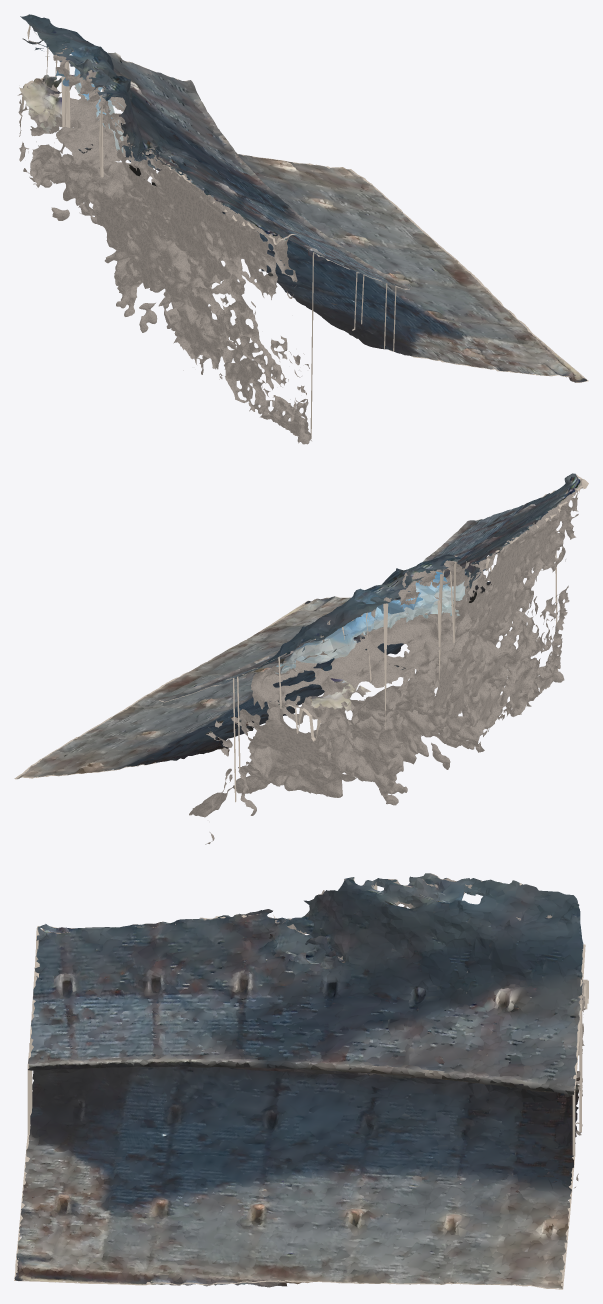
The model's file is dkr-west-stand-far.glb.
3 views of the same model, one above another, from view 1: azimuth 30°, elevation 25°; view 2: azimuth 150°, elevation 25°; view 3: azimuth 270°, elevation 25° (orthographic). The views are drawn at different scales.
Visible parts, largest first — view 1: DKR west stand scan, DKR west stand authored infill; view 2: DKR west stand scan, DKR west stand authored infill; view 3: DKR west stand scan, DKR west stand authored infill.
Boxes of the visible parts, x1,y1,x2,y2 form: DKR west stand scan: [17, 14, 586, 444]; DKR west stand authored infill: [21, 25, 588, 438]; DKR west stand scan: [16, 473, 582, 844]; DKR west stand authored infill: [14, 474, 588, 802]; DKR west stand scan: [14, 873, 585, 1288]; DKR west stand authored infill: [14, 879, 588, 1289].
Bounding box in the file's own units: 79.79 × 55.17 × 111.
Materials: 2 (1 with a texture image).
